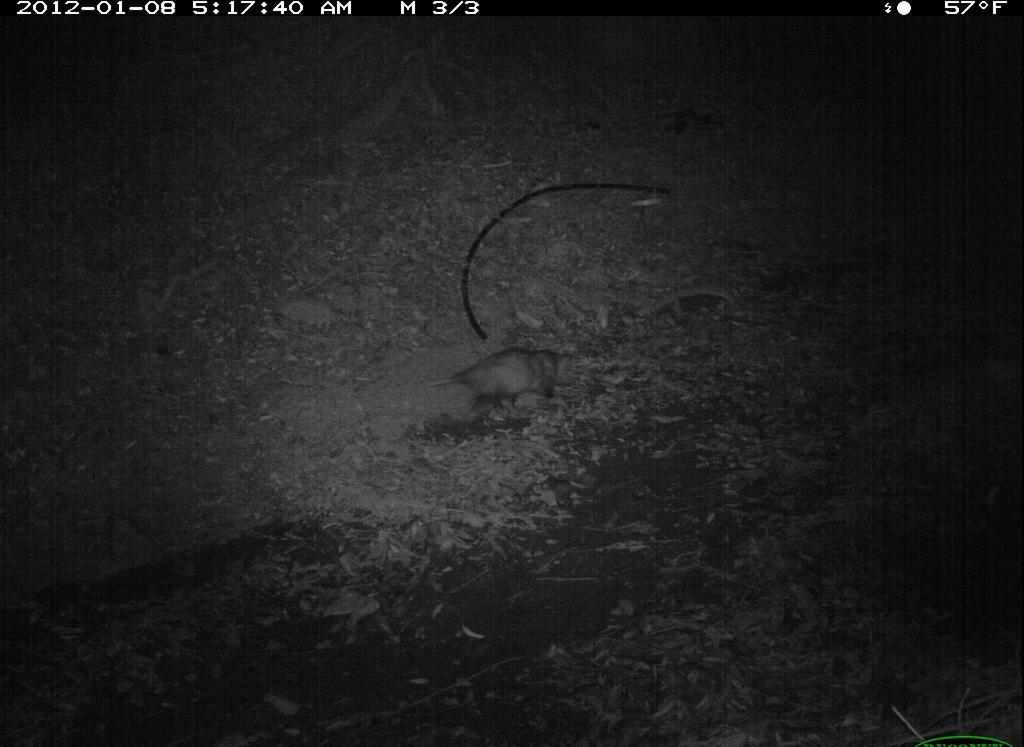opossum: (425, 345, 592, 436)
